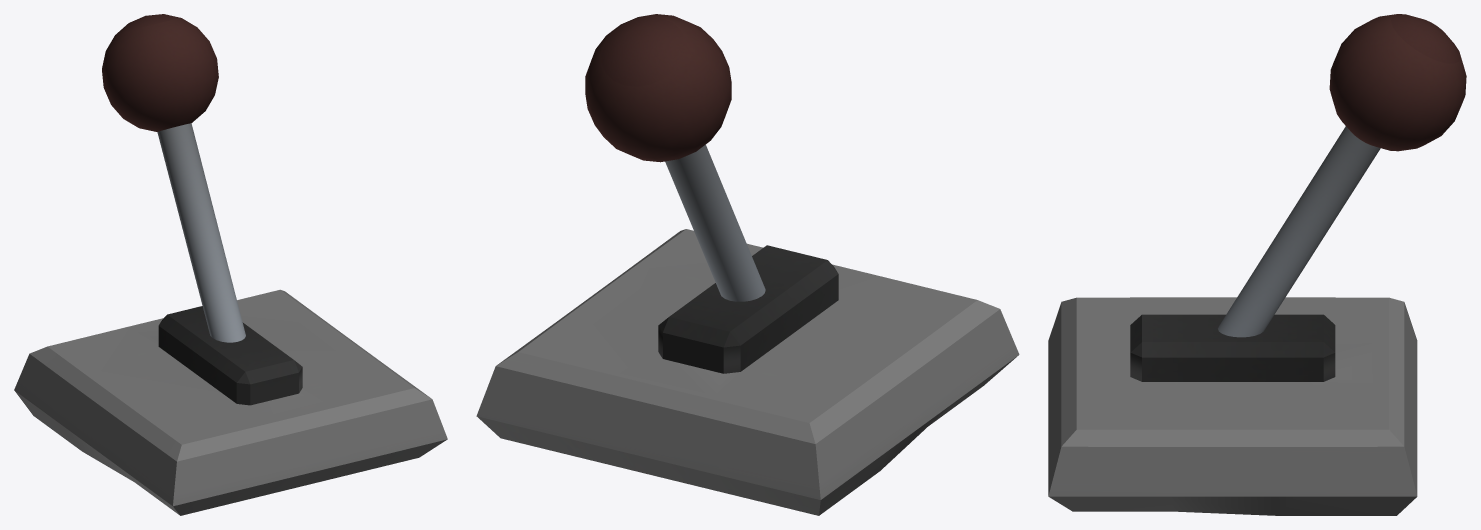
Rendered from lever.fbx.
The picture shows the model from 3 angles, left to right: view 1: azimuth 30°, elevation 25°; view 2: azimuth 150°, elevation 25°; view 3: azimuth 270°, elevation 25°; orthographic projection. The views are drawn at different scales.
Visible parts, largest first — view 1: LeverStatic; view 2: LeverStatic; view 3: LeverStatic.
Part boxes in pixels (x1,y1,x2,y2): LeverStatic: [14, 14, 447, 515]; LeverStatic: [476, 14, 1019, 515]; LeverStatic: [1048, 14, 1466, 515].
Bounding box in the file's own units: 1.7 × 2.16 × 1.93.
